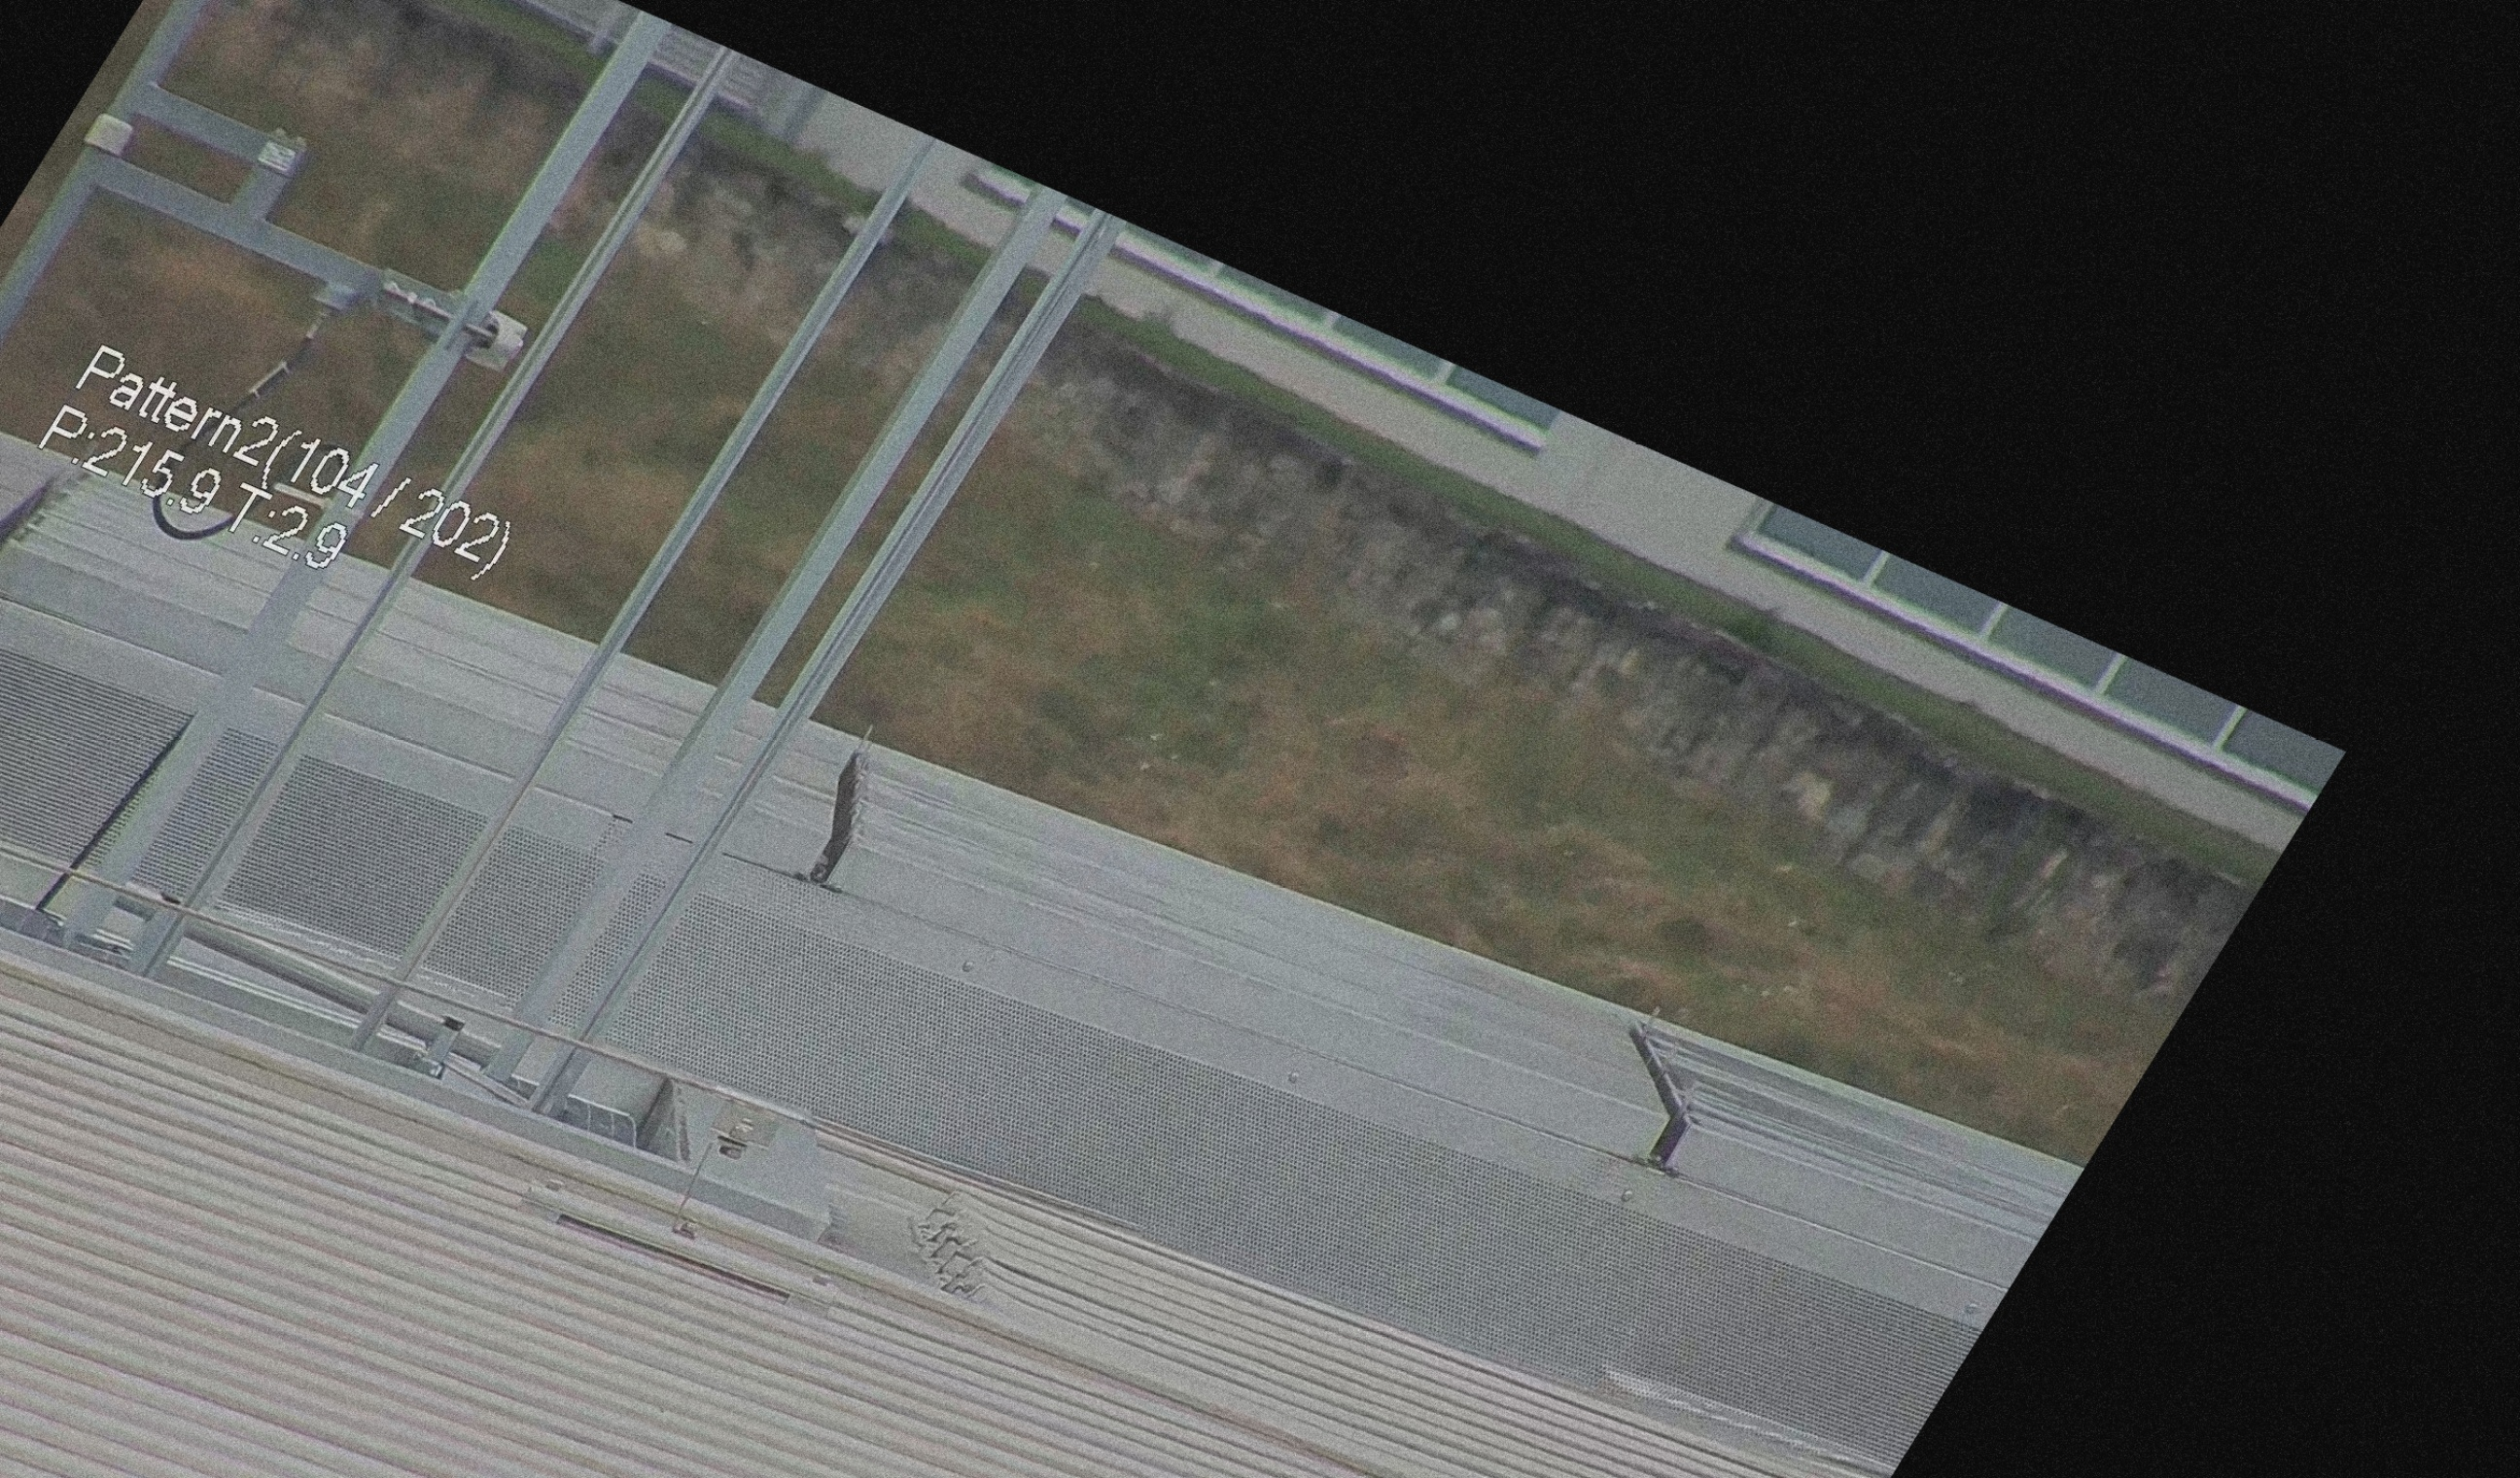Other: (765, 709, 934, 892)
